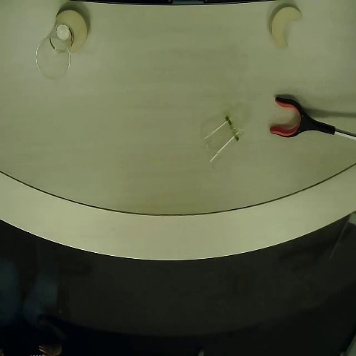empty_cup: (199, 111, 247, 170), (36, 23, 73, 81)
puck: (54, 9, 89, 52), (269, 5, 304, 48)
